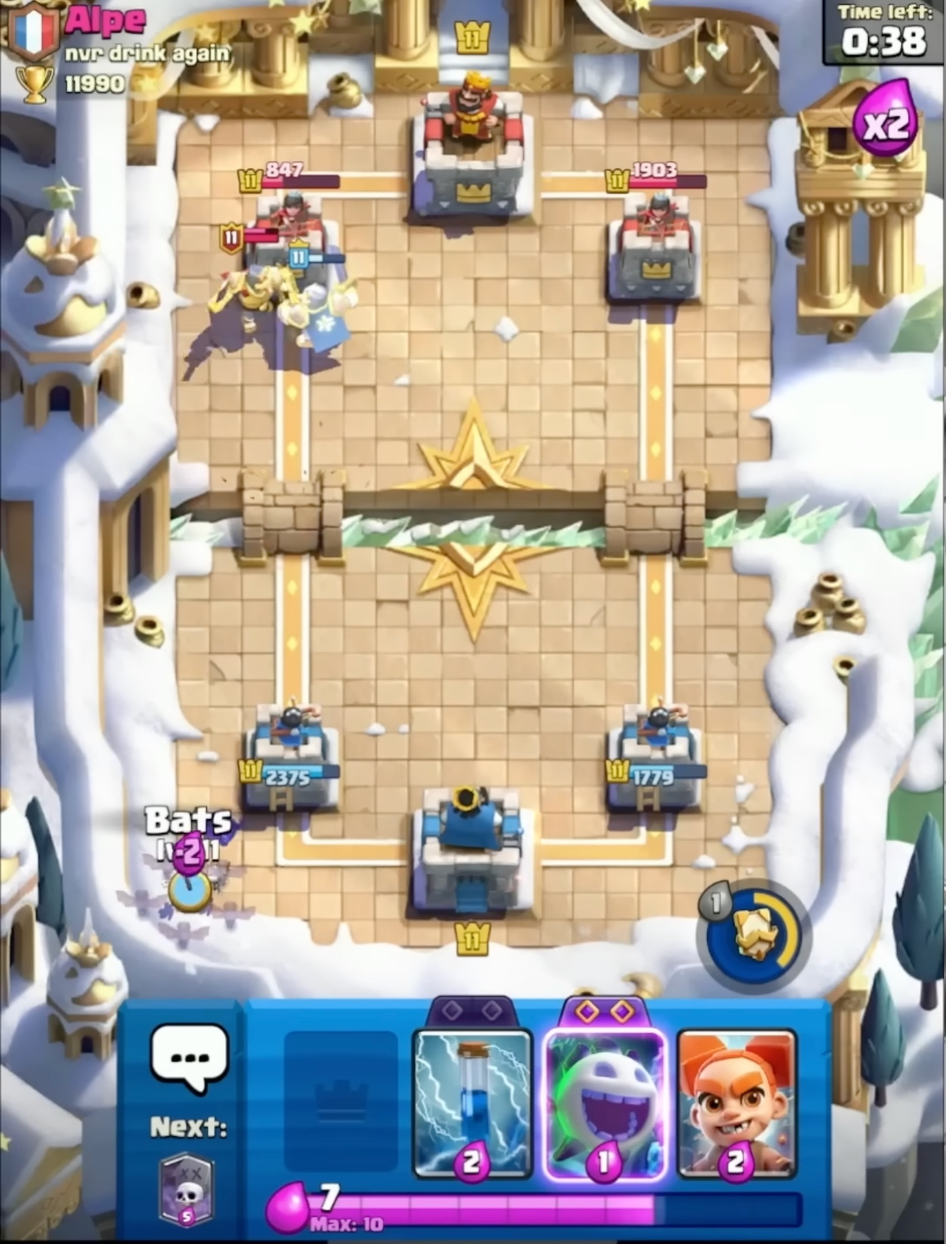hero-knight: (200, 214, 303, 335)
